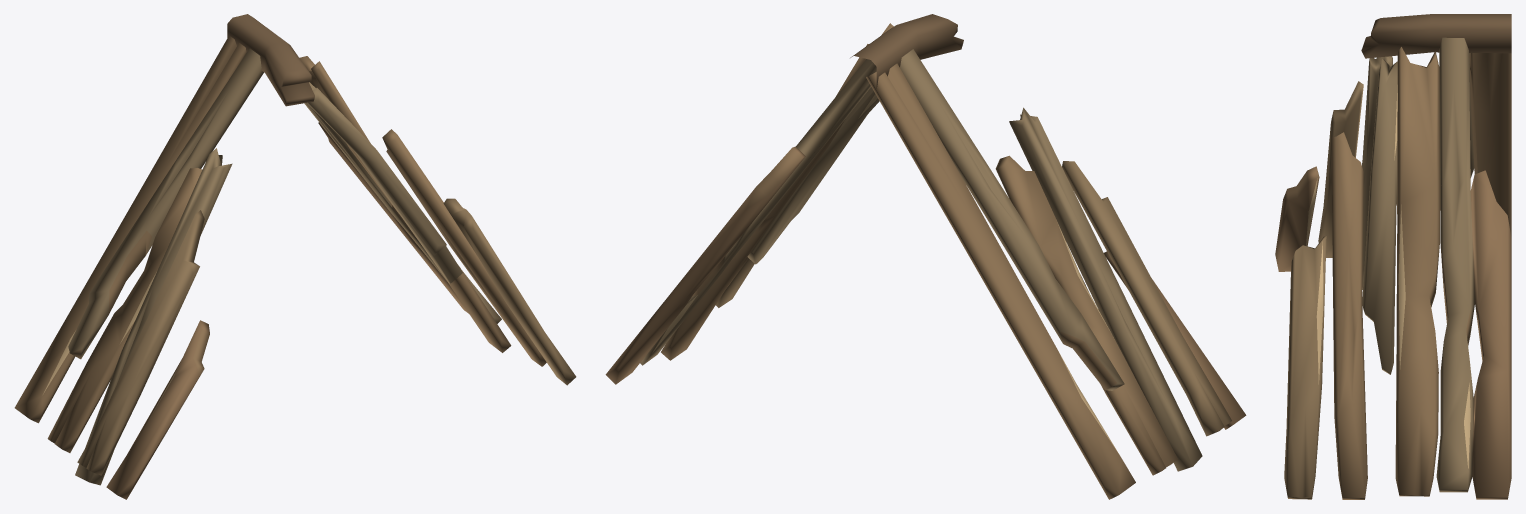
File: rpgpp_av_roof_02_6x5x3_c.gltf
3 renders of one model, left to right at view 1: azimuth 30°, elevation 25°; view 2: azimuth 150°, elevation 25°; view 3: azimuth 270°, elevation 25°, orthographic. The views are drawn at different scales.
Visible parts, largest first — view 1: rpgpp_av_roof_02_6x5x3_c; view 2: rpgpp_av_roof_02_6x5x3_c; view 3: rpgpp_av_roof_02_6x5x3_c.
Boxes of the visible parts, x1=… form: rpgpp_av_roof_02_6x5x3_c: x1=14, y1=14, x2=576, y2=499; rpgpp_av_roof_02_6x5x3_c: x1=605, y1=14, x2=1246, y2=499; rpgpp_av_roof_02_6x5x3_c: x1=1275, y1=14, x2=1511, y2=499.
Bounding box in the file's own units: 0.073 × 0.0536 × 0.0299.
Materials: 1 (1 with a texture image).
